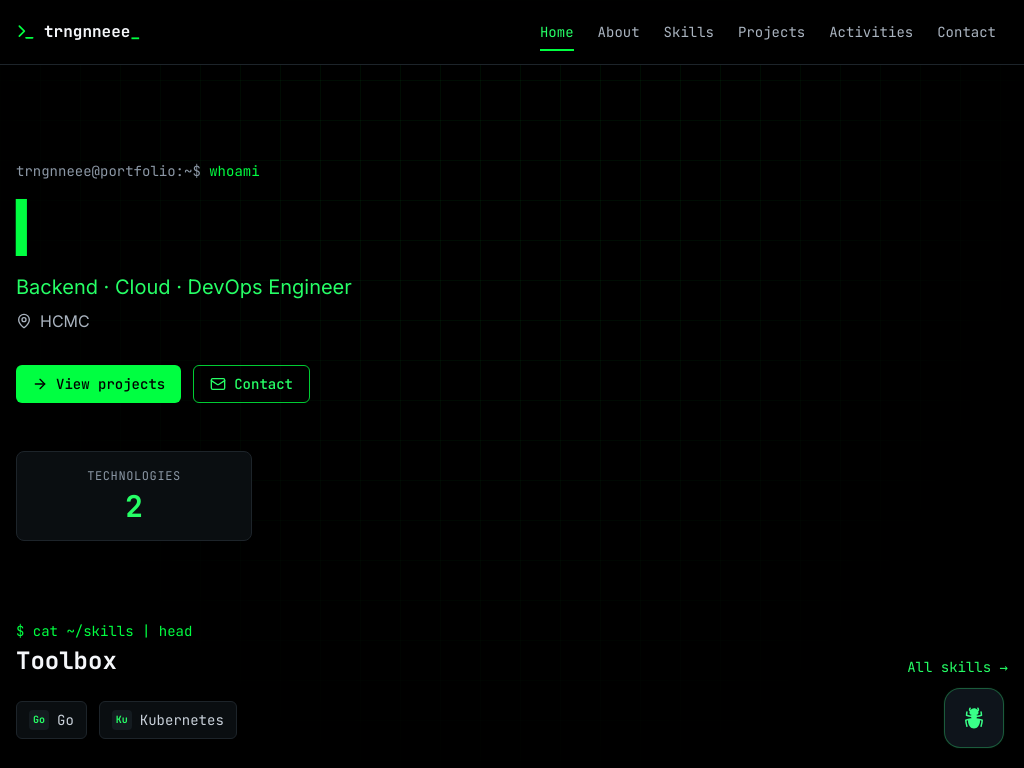
Test: Spidey widget › error event → inline alert; Retry re-asks the same question
The image size is (1024, 768).
Click the button named "Ask Spidey" at (974, 718), box [944, 688, 1004, 748]
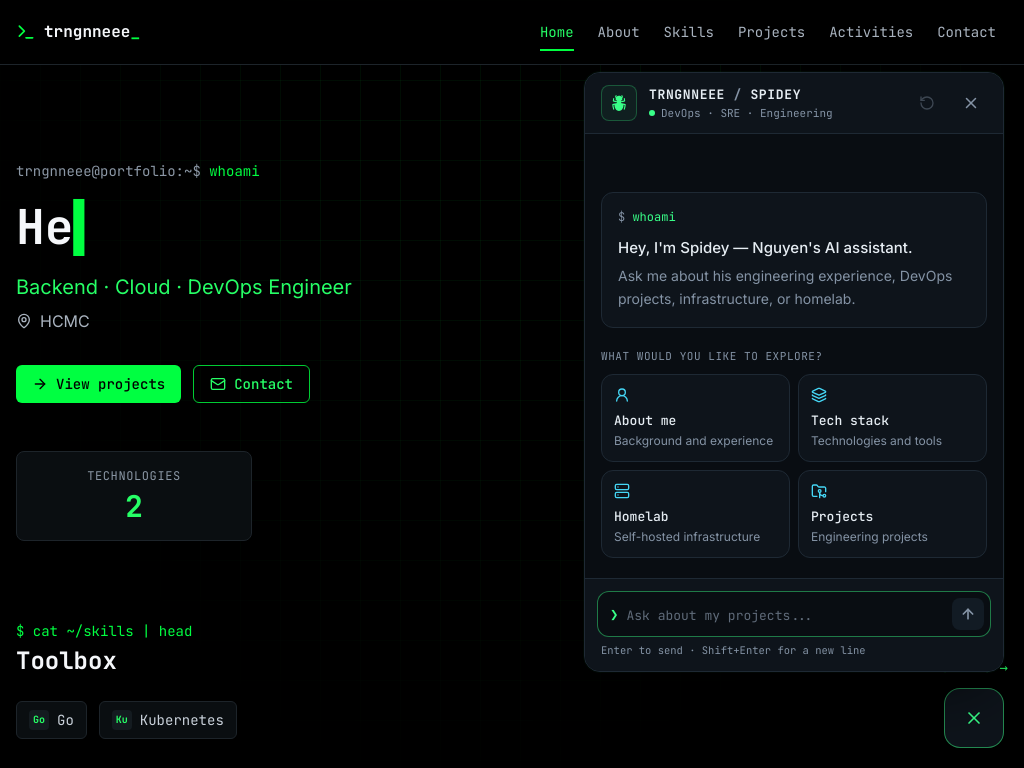
Type "Hello?" into the text box named "Message Spidey" at (785, 616), box [626, 601, 944, 630]
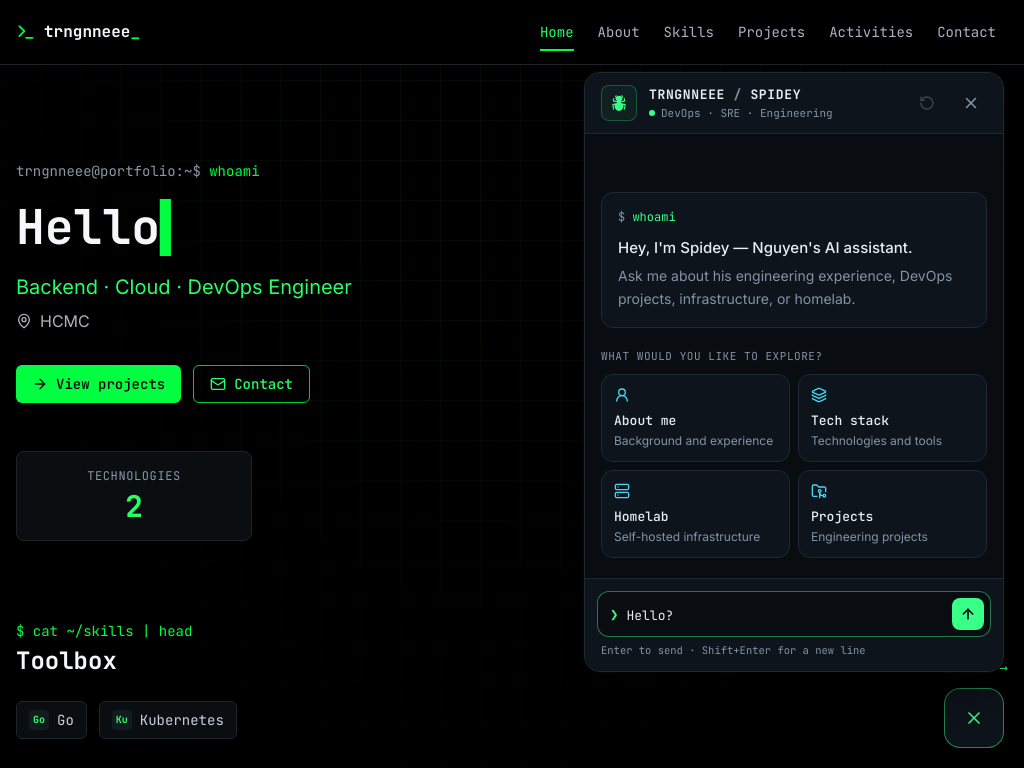
Check: the button named "Send message" is enabled, box [952, 598, 984, 630]
Press Enter
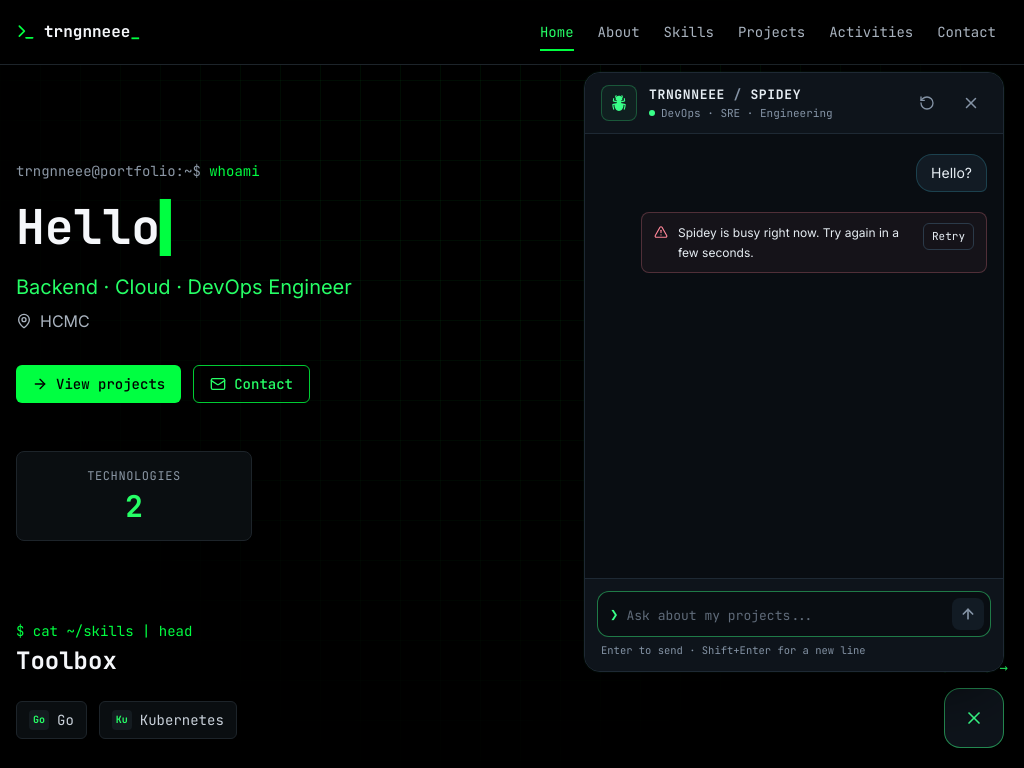
Check: the message shows "busy", box [678, 225, 899, 260]
Check: the text "Hello?" is shown, box [916, 154, 987, 192]
Click the button "Retry" at (948, 236), box [923, 223, 974, 250]
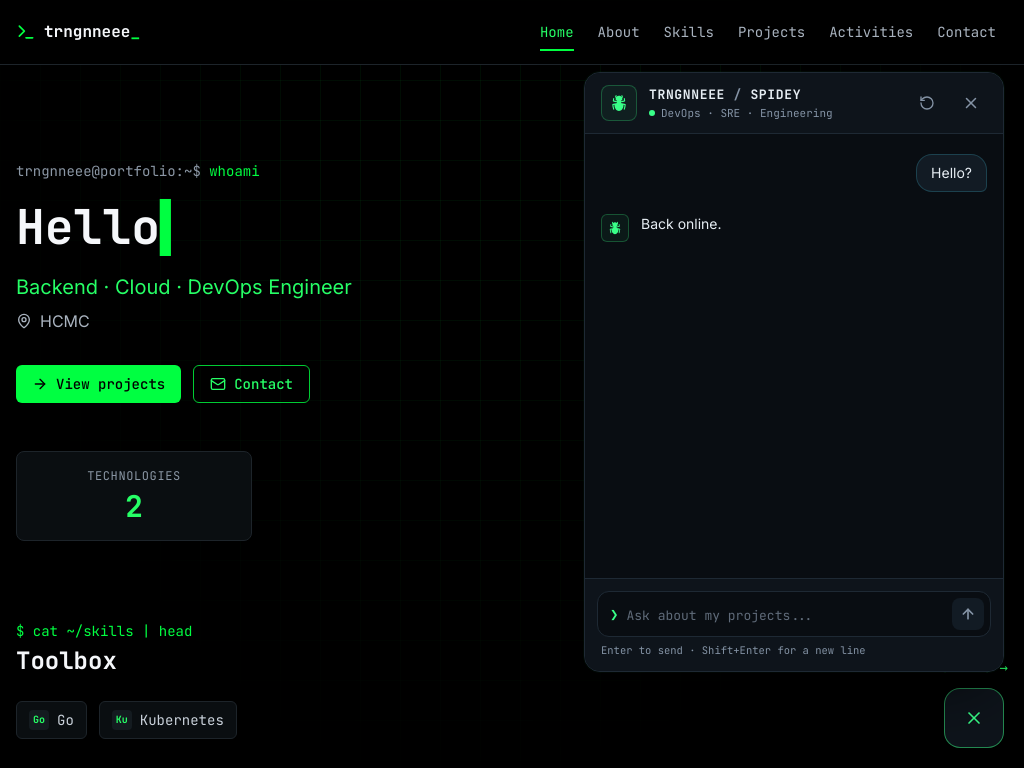
Check: the text "Hello?" is shown once, box [916, 154, 987, 192]
Check: the text "Back online." is shown, box [641, 215, 722, 232]
Check: the message "Spidey is busy right now. Try again in a few seconds. Retry" is gone
